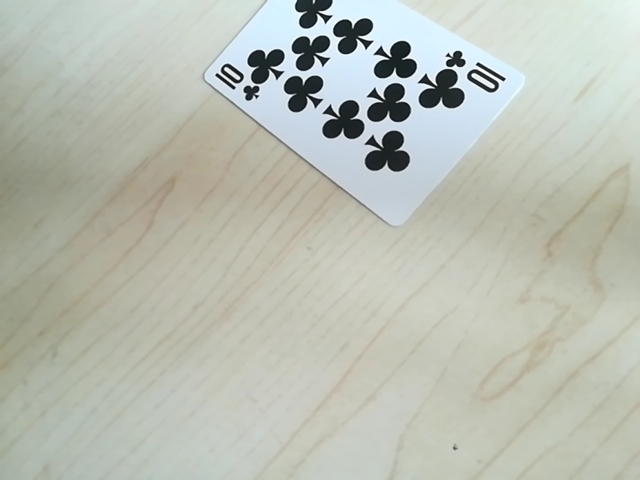mh 10: (442, 49, 511, 99), (210, 60, 263, 101)
